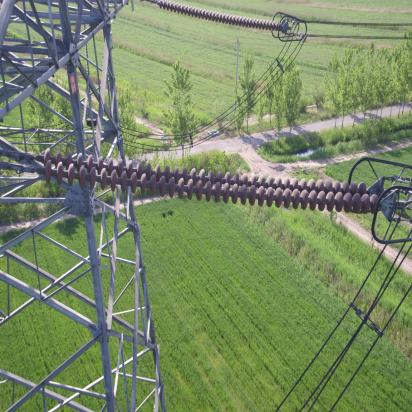insulator: (16, 147, 387, 217), (148, 1, 286, 32)
